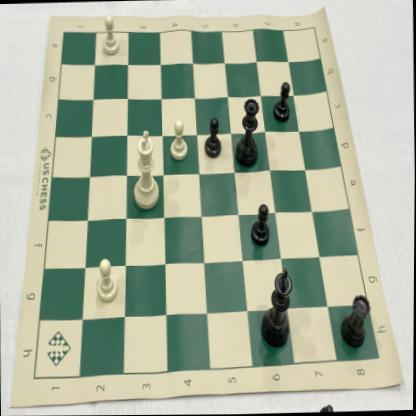black-king: (257, 264, 296, 354)
black-pawn: (246, 198, 273, 251), (268, 77, 294, 126), (201, 116, 224, 163)
black-queen: (230, 94, 261, 174)
black-rook: (335, 289, 373, 352)
white-king: (128, 128, 164, 212)
white-pawn: (91, 254, 120, 304), (96, 12, 123, 58), (166, 115, 190, 164)
